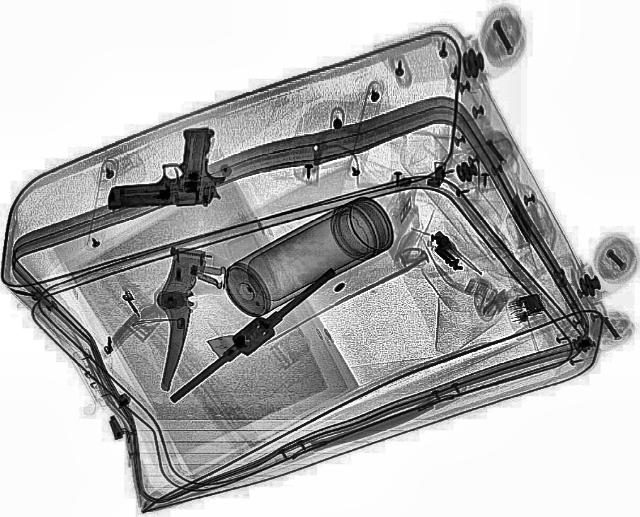Gun: (103, 127, 224, 209)
